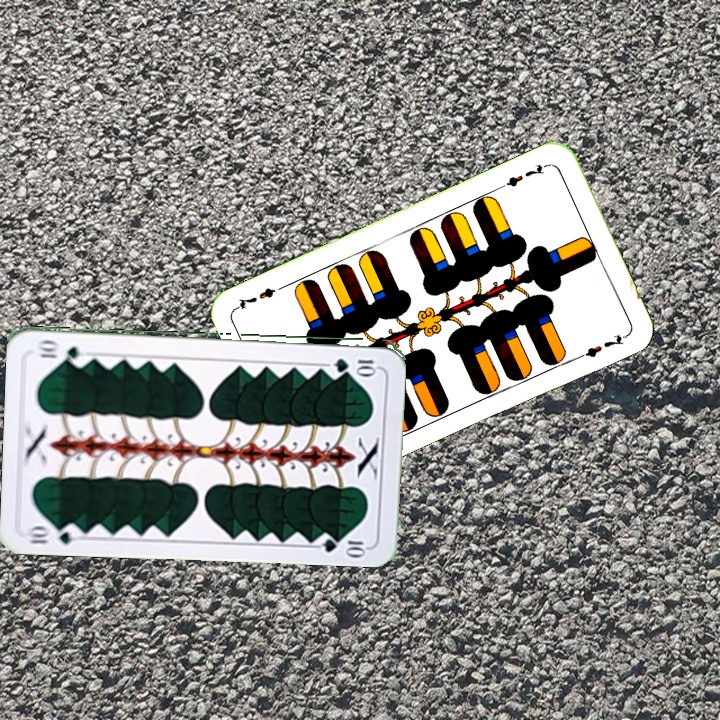E7: (496, 159, 552, 191)
G10: (24, 520, 83, 547), (331, 354, 380, 373)
